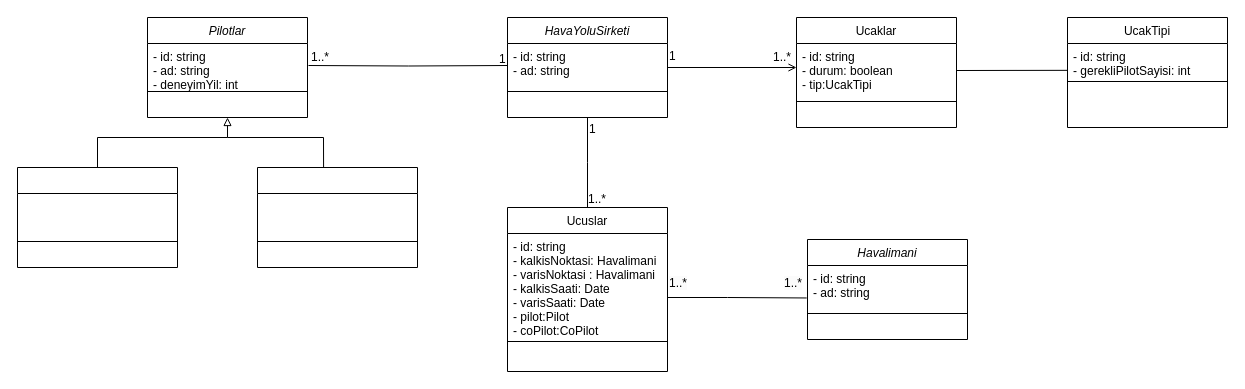
Some shapes in this 1245 by 389 pixel diagram are drawn without their labels. Here are the shapes that lost their labels. From the top down, the centre of each, then its label:
At point (97, 217): "Pilot".
At point (337, 217): "CoPilot".
